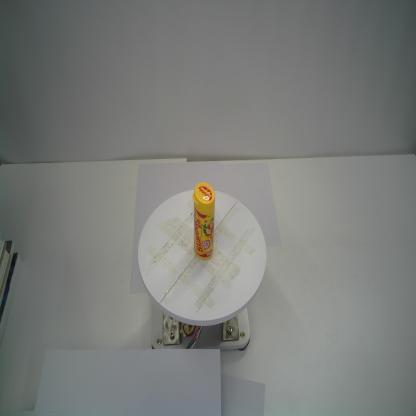Candy: (192, 181, 216, 261)
